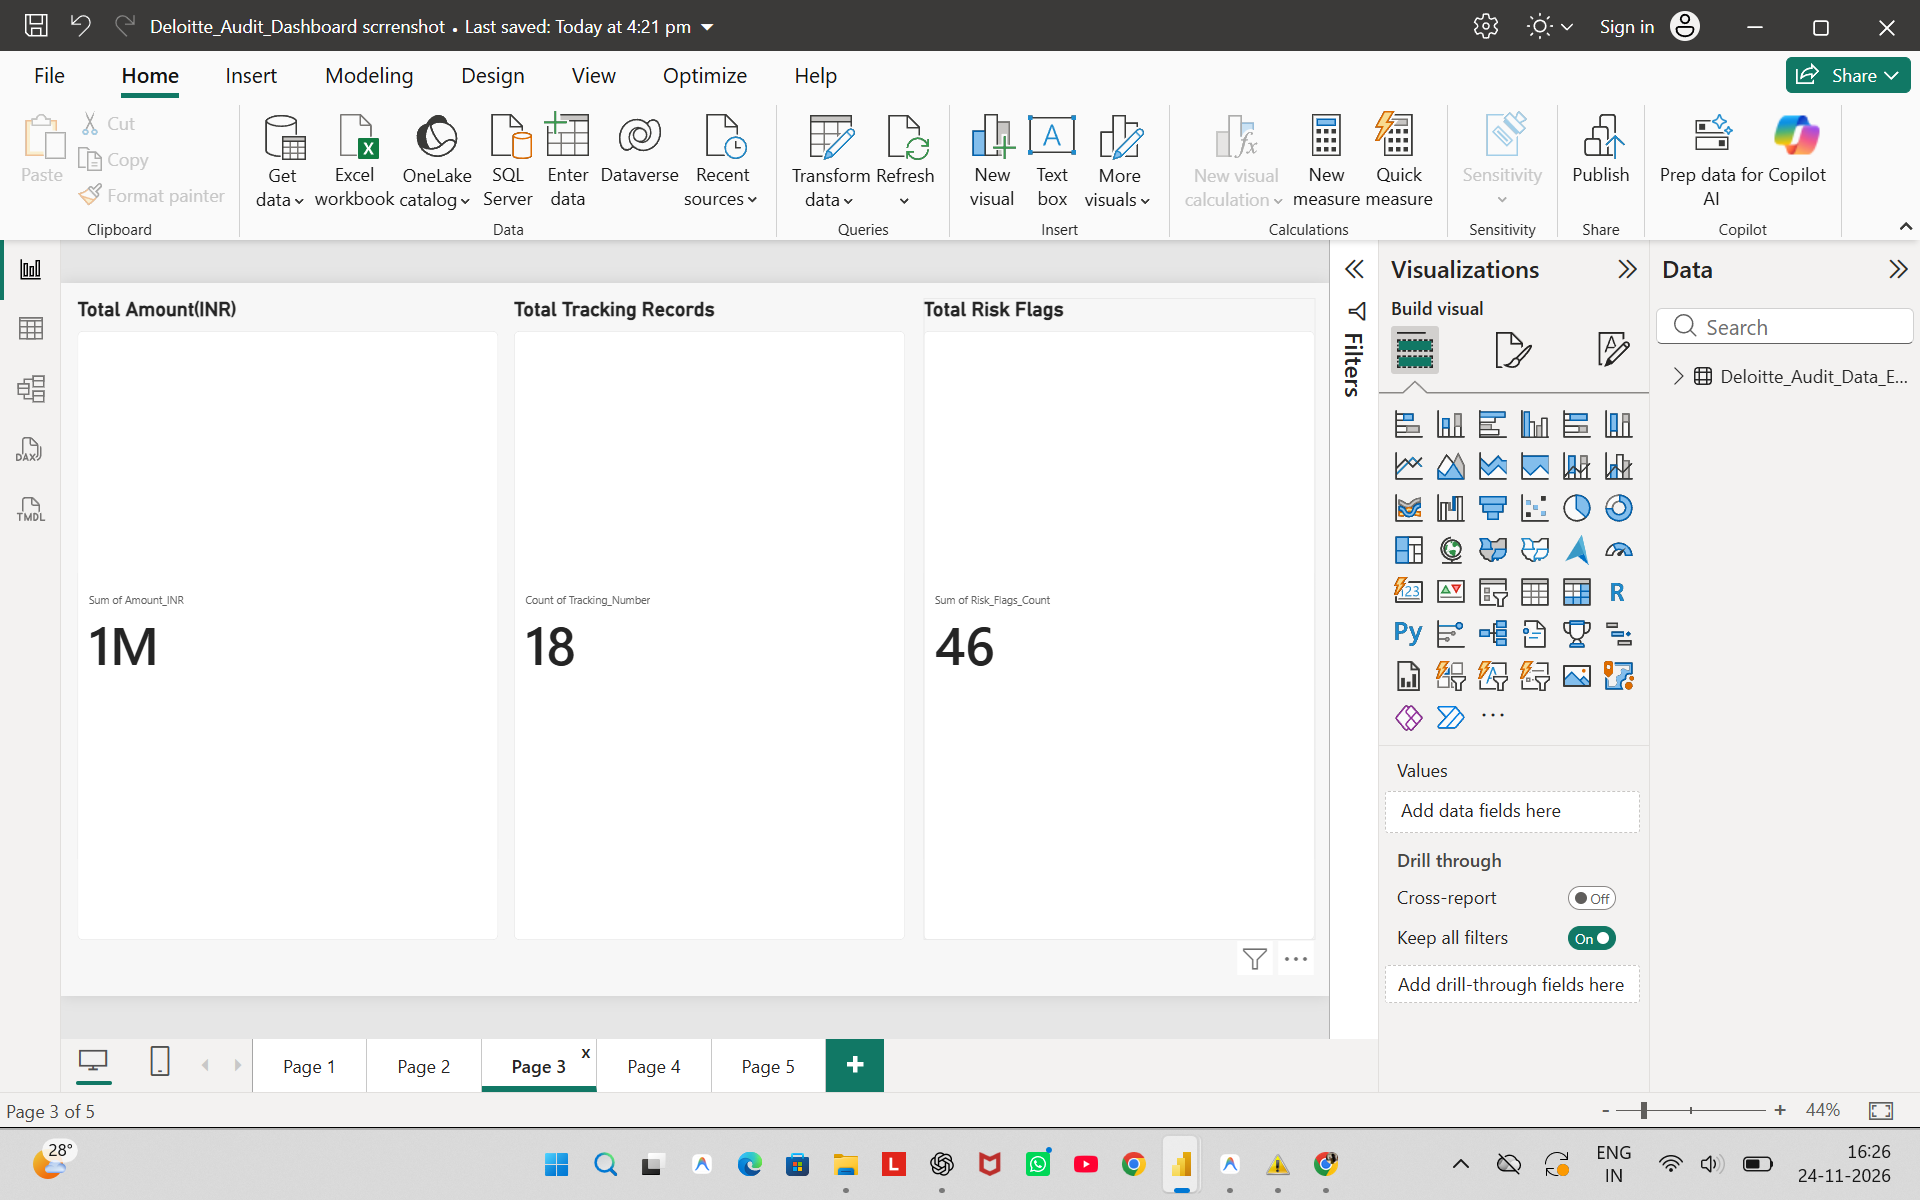

Layout of this report page (visuals, bound fields, positions):
{"tool":"powerbi","page":{"name":"Page 3","canvas":[1920,1080],"ordinal":2},"visuals":[{"type":"cardVisual","title":"Total Amount(INR)","fields":{"Data":["Sum(Deloitte_Audit_Data_Export_2026.Amount_INR)"]},"box":[25.5,22.7,637.8,972.3],"z":0},{"type":"cardVisual","title":"Total Tracking Records","fields":{"Data":["CountNonNull(Deloitte_Audit_Data_Export_2026.Tracking_Number)"]},"box":[686,22.7,592.4,972.3],"z":1},{"type":"cardVisual","title":"Total Risk Flags","fields":{"Data":["Sum(Deloitte_Audit_Data_Export_2026.Risk_Flags_Count)"]},"box":[1306.8,22.7,592.4,972.3],"z":2}]}

Visuals, with their boxes on the page's 1920x1080 design canvas (x1, y1, x2, y2). These are canvas units, not pixel positions in the 1920x1200 screenshot, which may show the page scaled, cropped or inside an application window:
"Total Amount(INR)" cardVisual: [left=26, top=23, right=663, bottom=995]
"Total Tracking Records" cardVisual: [left=686, top=23, right=1278, bottom=995]
"Total Risk Flags" cardVisual: [left=1307, top=23, right=1899, bottom=995]
